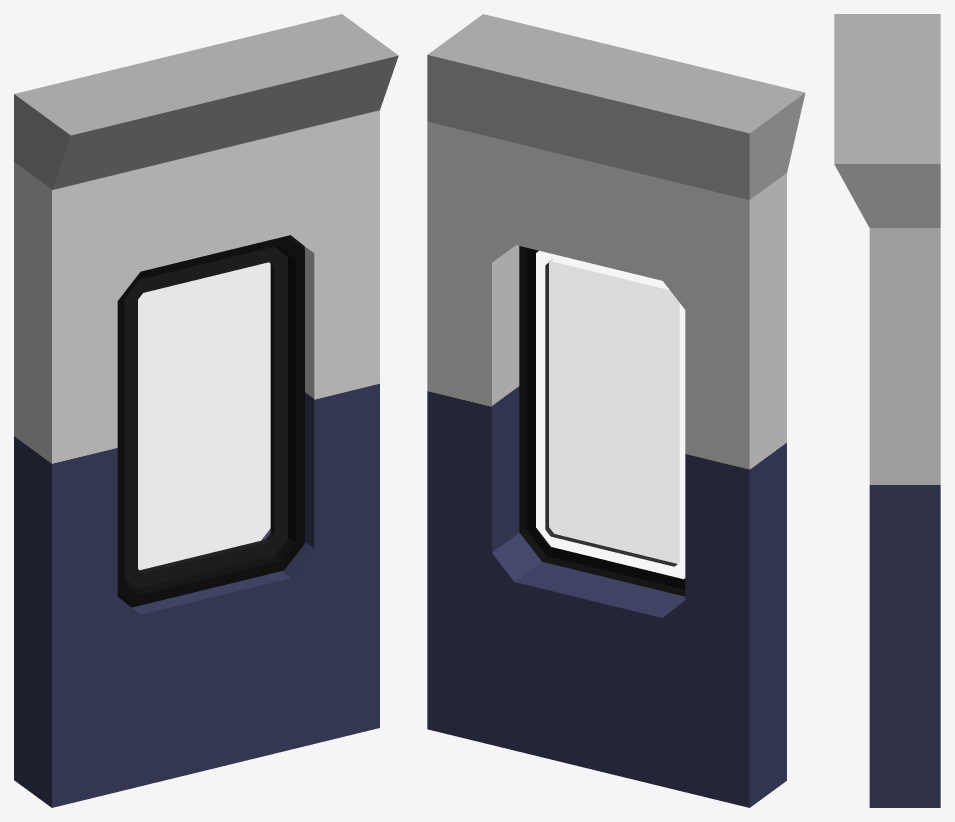
Rendered from WindowWall.fbx.
3 views of the same model, side by side, from view 1: azimuth 30°, elevation 25°; view 2: azimuth 150°, elevation 25°; view 3: azimuth 270°, elevation 25° (orthographic). The views are drawn at different scales.
Visible parts, largest first — view 1: Window_Wall001, Window; view 2: Window_Wall001, Window; view 3: Window_Wall001.
Boxes of the visible parts, x1,y1,x2,y2 form: Window_Wall001: [14, 14, 398, 807]; Window: [117, 235, 304, 607]; Window_Wall001: [427, 14, 805, 807]; Window: [519, 246, 685, 596]; Window_Wall001: [834, 14, 940, 807].
Size of the model in its own units: 39.37 by 78.74 by 11.81.
4 materials, 1 textured.
